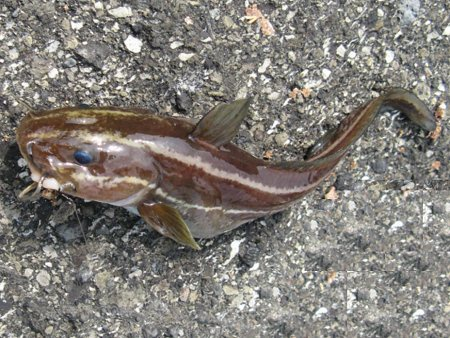gonzui: (12, 81, 446, 247)
